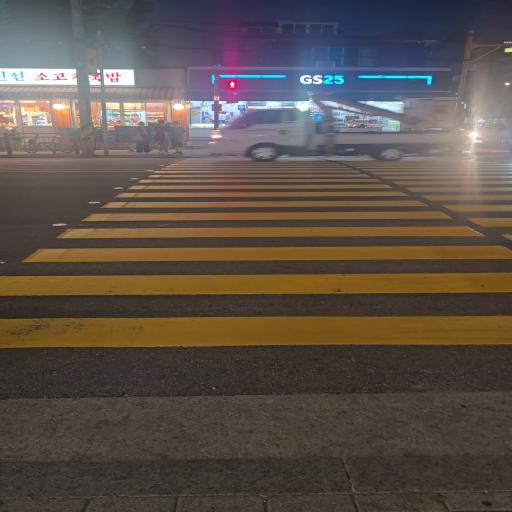yellow-crosswalk: (0, 147, 512, 368)
